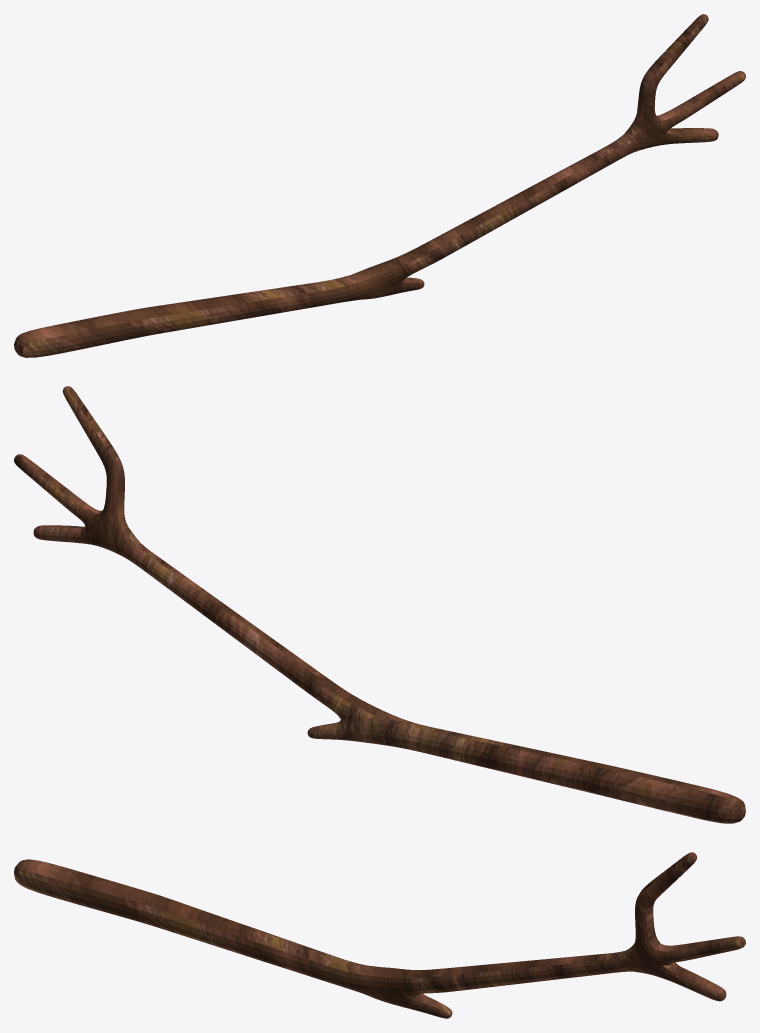
Rendered from snowmanLeftArm.obj.
3 renders of one model, top to bottom at view 1: azimuth 30°, elevation 25°; view 2: azimuth 150°, elevation 25°; view 3: azimuth 330°, elevation 25°, orthographic. The views are drawn at different scales.
Parts seen in each view (by area): view 1: Cube.006; view 2: Cube.006; view 3: Cube.006.
Part boxes in pixels (x1=…): Cube.006: x1=14, y1=14, x2=745, y2=357; Cube.006: x1=14, y1=386, x2=745, y2=823; Cube.006: x1=14, y1=852, x2=745, y2=1018.
Bounding box in the file's own units: 0.8508 × 0.2739 × 0.0976.
Materials: 1 (1 with a texture image).
